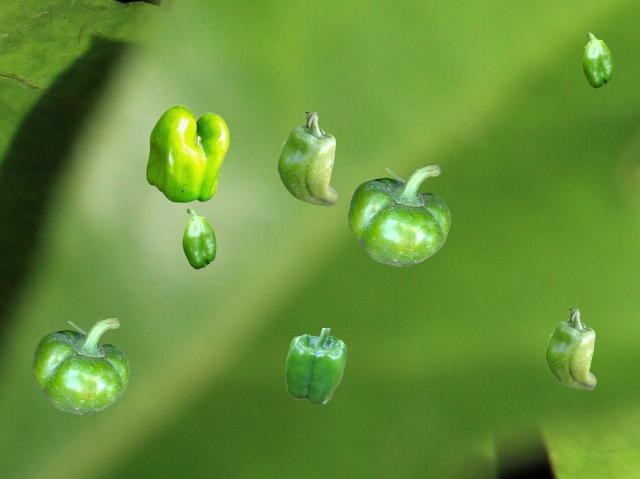bell_pepper: (348, 162, 449, 265), (32, 315, 128, 413), (145, 104, 228, 202), (277, 112, 336, 205), (285, 328, 345, 402), (545, 309, 595, 388), (182, 208, 215, 268), (582, 32, 612, 87)
